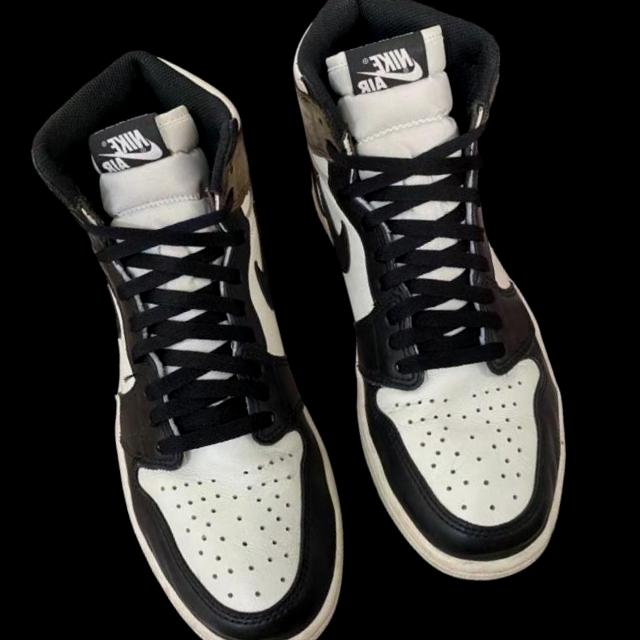nike_original_jordan: (242, 0, 630, 610), (0, 18, 379, 640)
